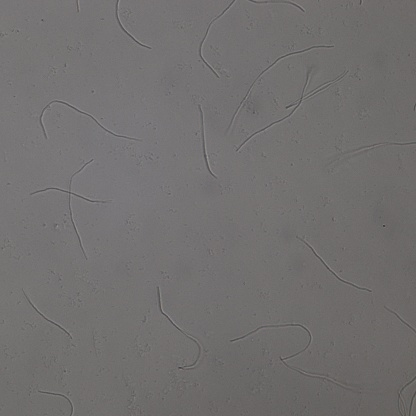Sensitive: (29, 159, 106, 262), (236, 69, 311, 150), (38, 99, 147, 140), (229, 321, 338, 359), (297, 238, 371, 292), (158, 288, 203, 371), (260, 38, 333, 77), (197, 1, 229, 79), (22, 288, 71, 337), (288, 72, 348, 106), (112, 1, 152, 51), (195, 105, 217, 179), (38, 388, 74, 416), (384, 308, 416, 332)
